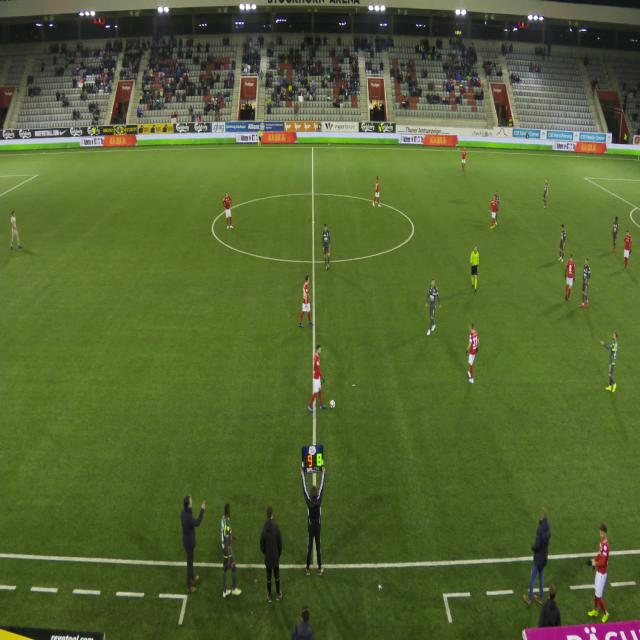Ball: (327, 392, 337, 417)
Player: (600, 323, 624, 397), (462, 313, 485, 390), (308, 342, 327, 413), (296, 268, 318, 327), (425, 272, 441, 344), (561, 243, 577, 310), (7, 198, 25, 257), (318, 222, 336, 276), (369, 166, 387, 216), (579, 252, 594, 312), (219, 186, 235, 242), (487, 191, 504, 240), (622, 222, 636, 278), (608, 209, 621, 257), (558, 214, 568, 263), (460, 138, 469, 184), (541, 177, 550, 210)
Referee: (468, 240, 488, 294), (255, 127, 265, 149)
